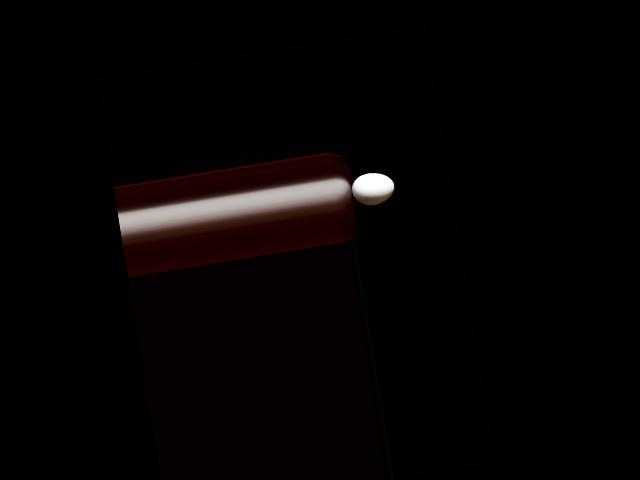egg: (349, 169, 396, 207)
